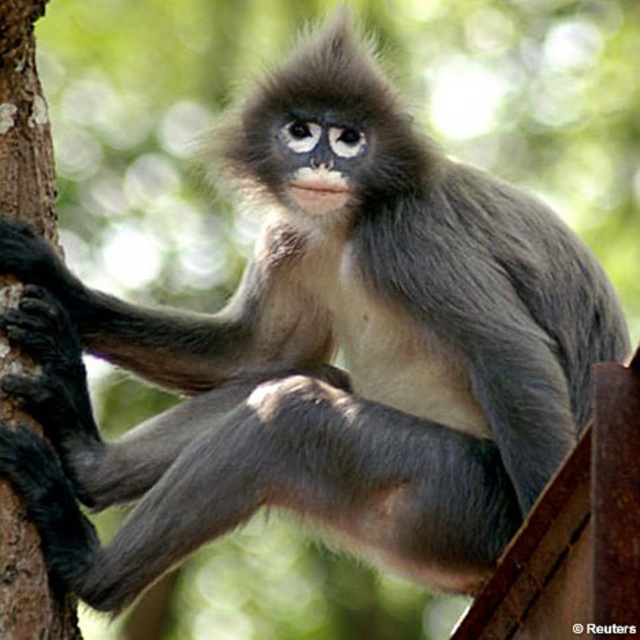Monkey: (1, 0, 631, 628)
